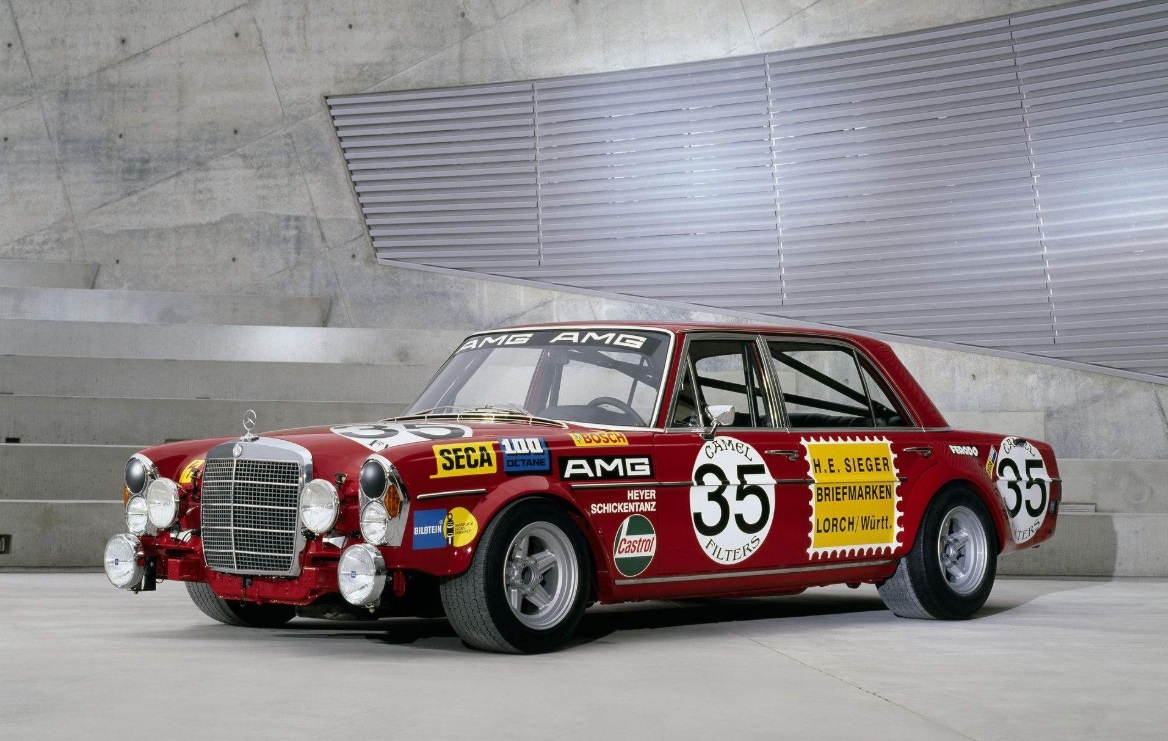family sedan: (113, 315, 1064, 659)
